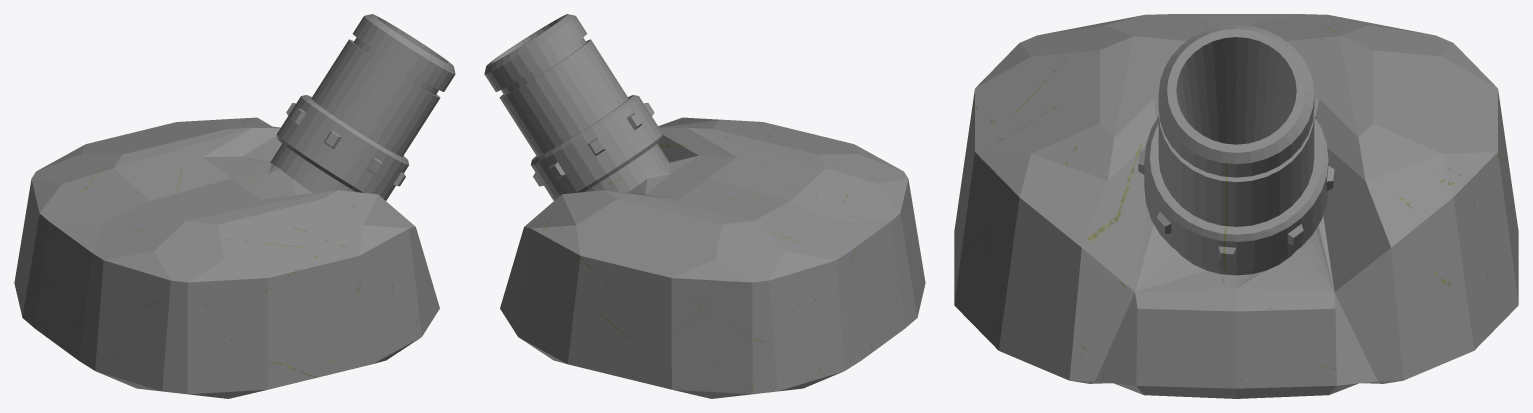
File: Artillery.fbx
3 renders of one model, left to right at view 1: azimuth 30°, elevation 25°; view 2: azimuth 150°, elevation 25°; view 3: azimuth 270°, elevation 25°, orthographic. The views are drawn at different scales.
Parts seen in each view (by area): view 1: Artillery; view 2: Artillery; view 3: Artillery.
Part boxes in pixels (<box>): Artillery: <box>14,14,455,398</box>; Artillery: <box>484,14,925,398</box>; Artillery: <box>954,14,1518,398</box>.
Size of the model in its own units: 892 by 751 by 1016.
